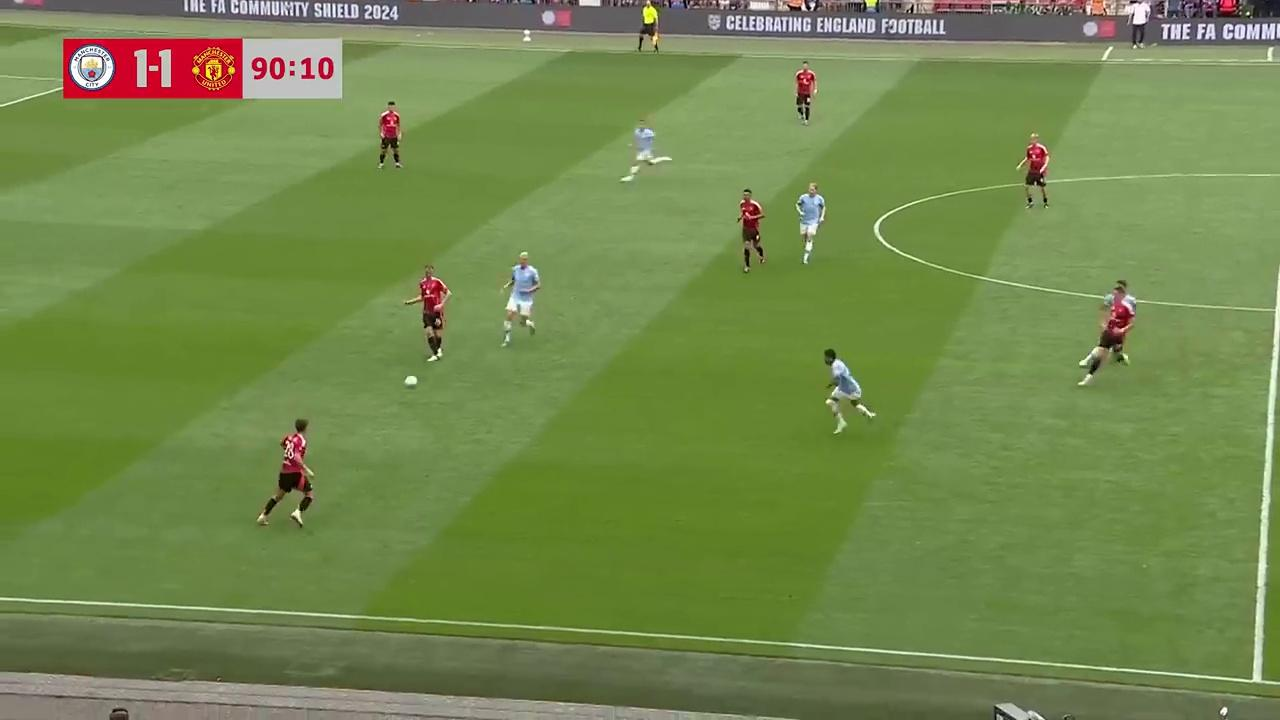ball: (402, 371, 419, 388)
player: (256, 419, 314, 528), (1084, 279, 1136, 367), (404, 263, 450, 362), (823, 348, 875, 434), (499, 251, 540, 346), (620, 118, 667, 183), (794, 181, 826, 265), (736, 188, 767, 273), (1018, 134, 1050, 209), (376, 99, 403, 171), (794, 61, 817, 123)
referee: (635, 0, 662, 54)
